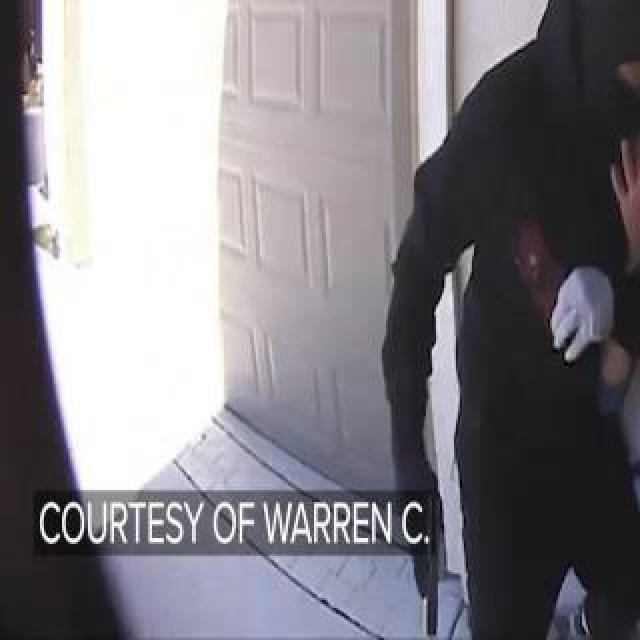Guns: (412, 486, 451, 640)
